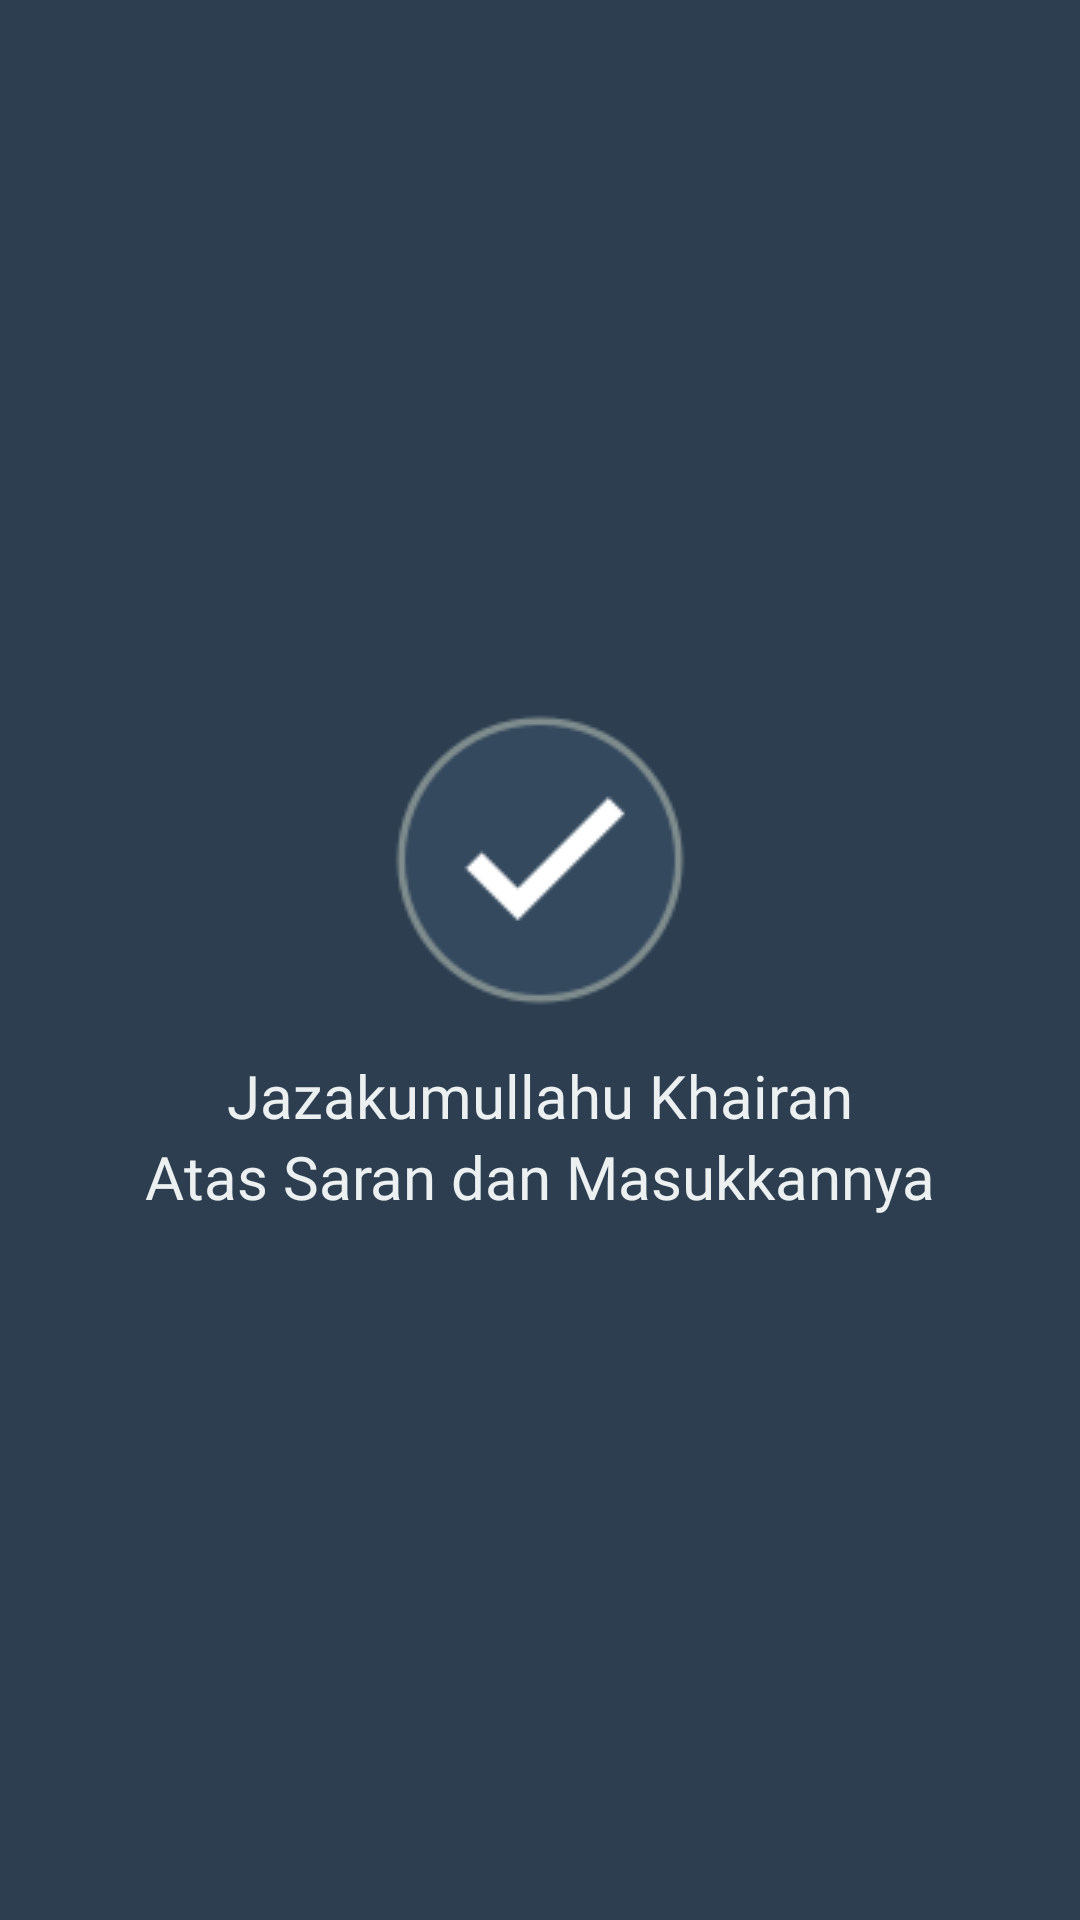

Icon click points for this 1080w x 1920h phone screenshot, format (x=x, y=y):
checked: (x=540, y=860)
